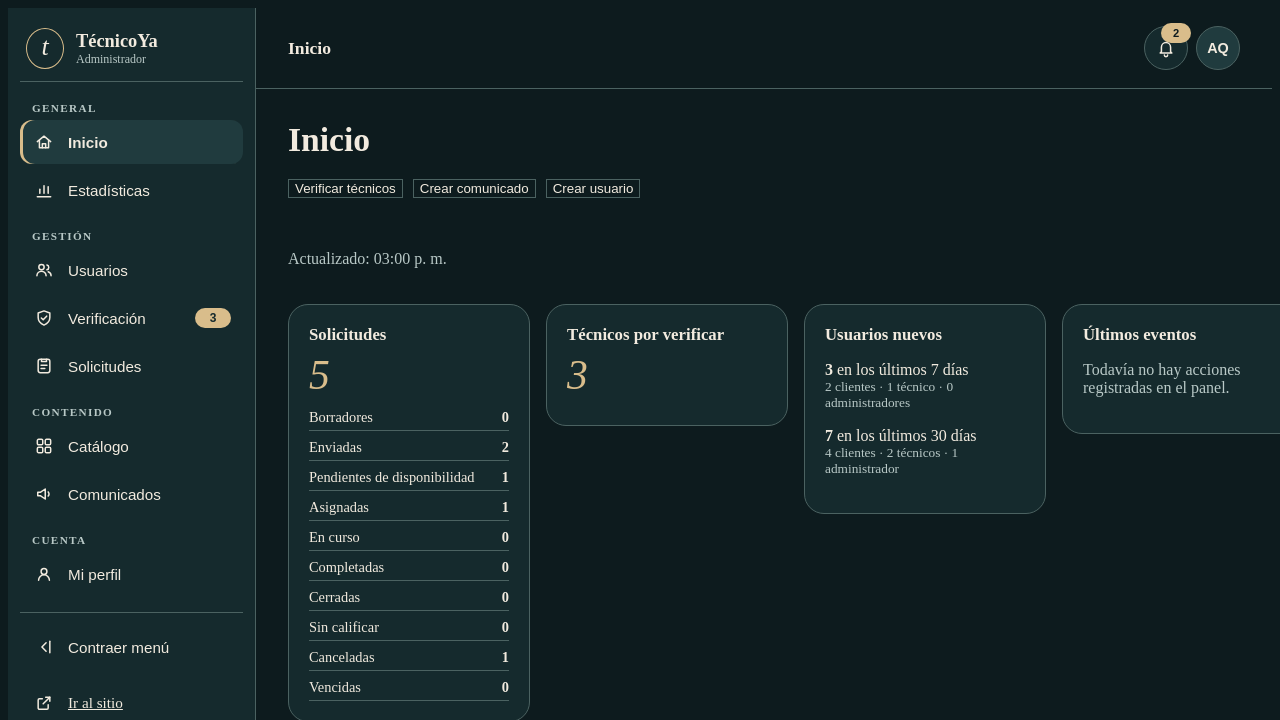
Test case: S07-TC-063 sin /me ni almacenamiento el tema funciona igual y avisa que no se guardó
The image size is (1280, 720).
Click the button with aria-label "Menú de Ana Quispe": click(1218, 48) [1196,26,1240,70]
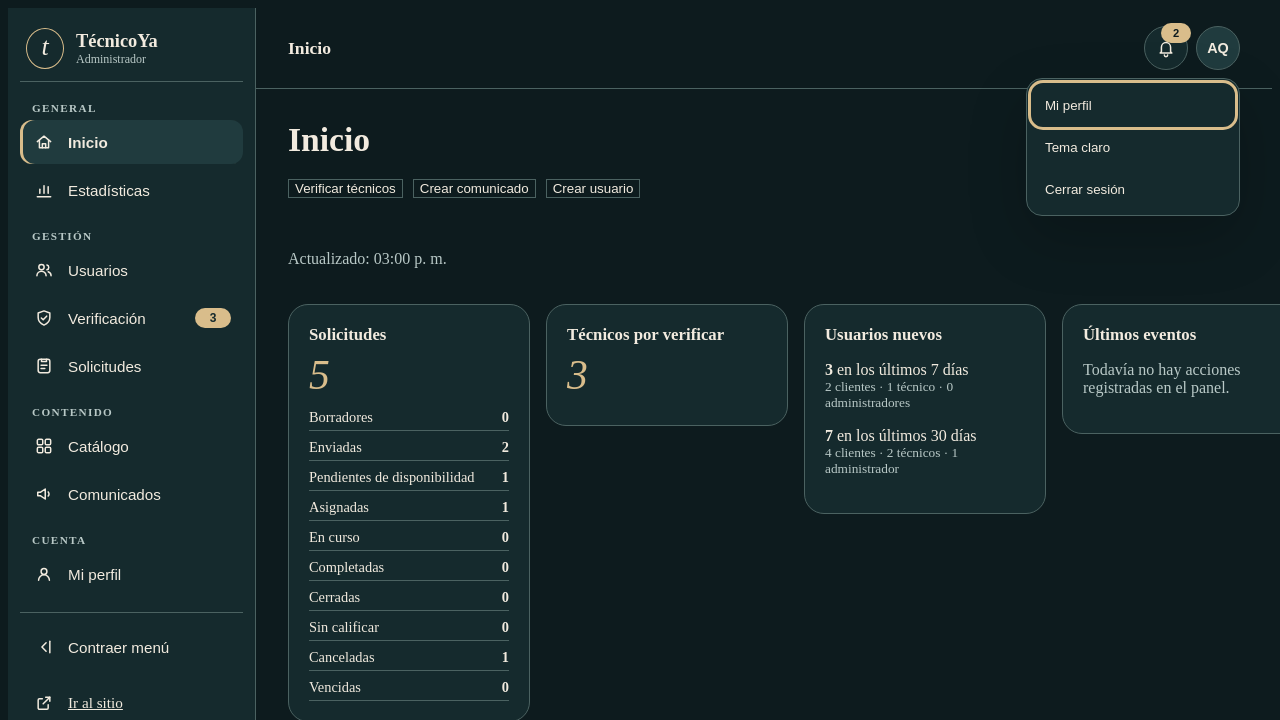
Click the menu item "Tema claro": click(1133, 147) [1033,127,1233,167]
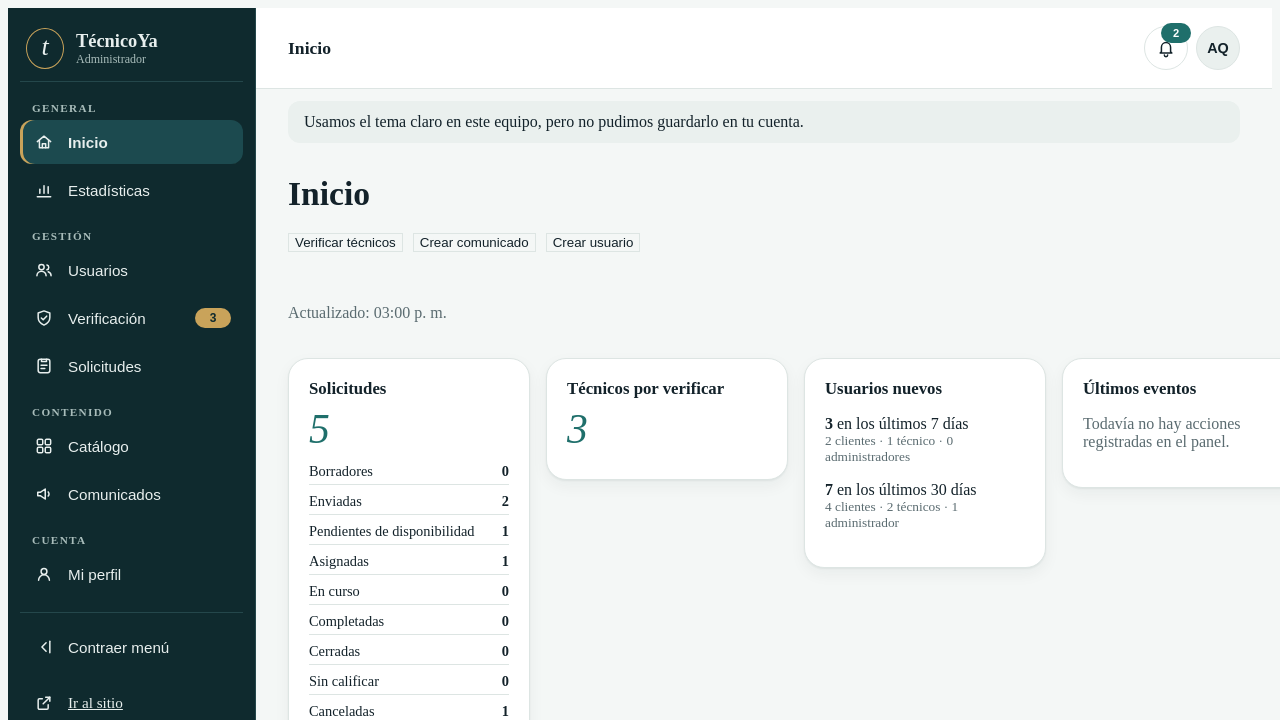
expect the text "Usamos el tema claro en este equipo, pero no pudimos guardarlo en tu cuenta." is shown: met, box [288,101,1240,143]
